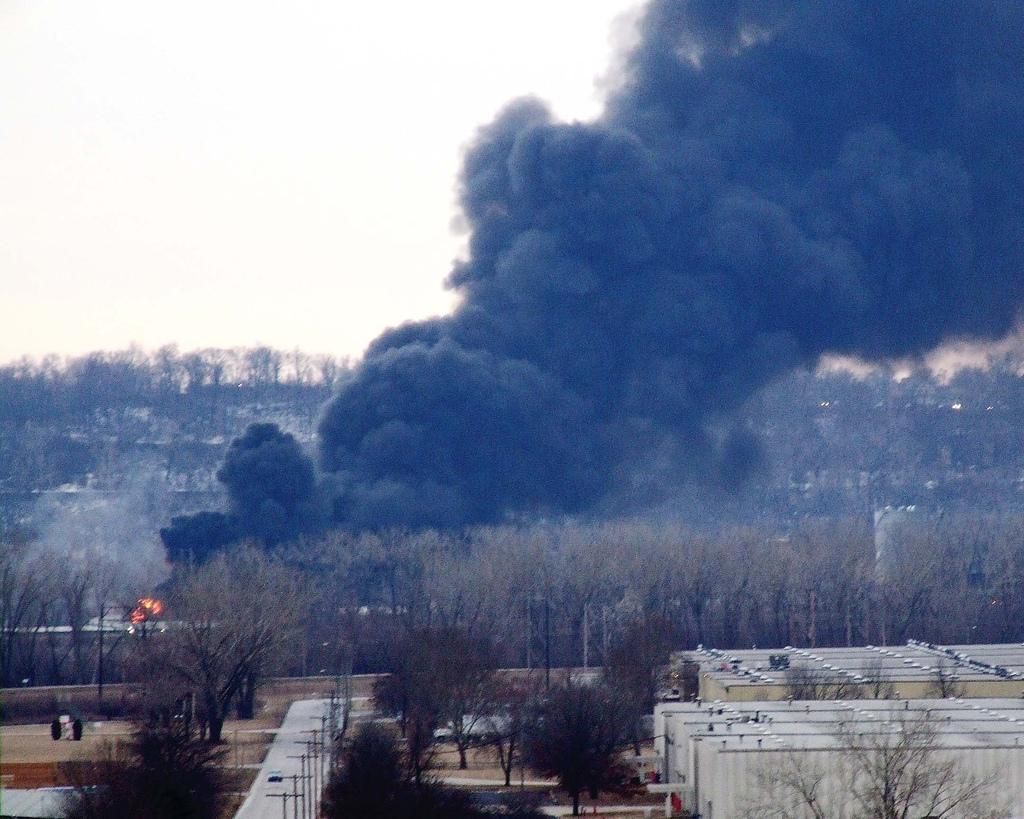fire: (126, 588, 158, 626)
smoke: (704, 52, 982, 318), (366, 370, 548, 504), (562, 208, 672, 422)
